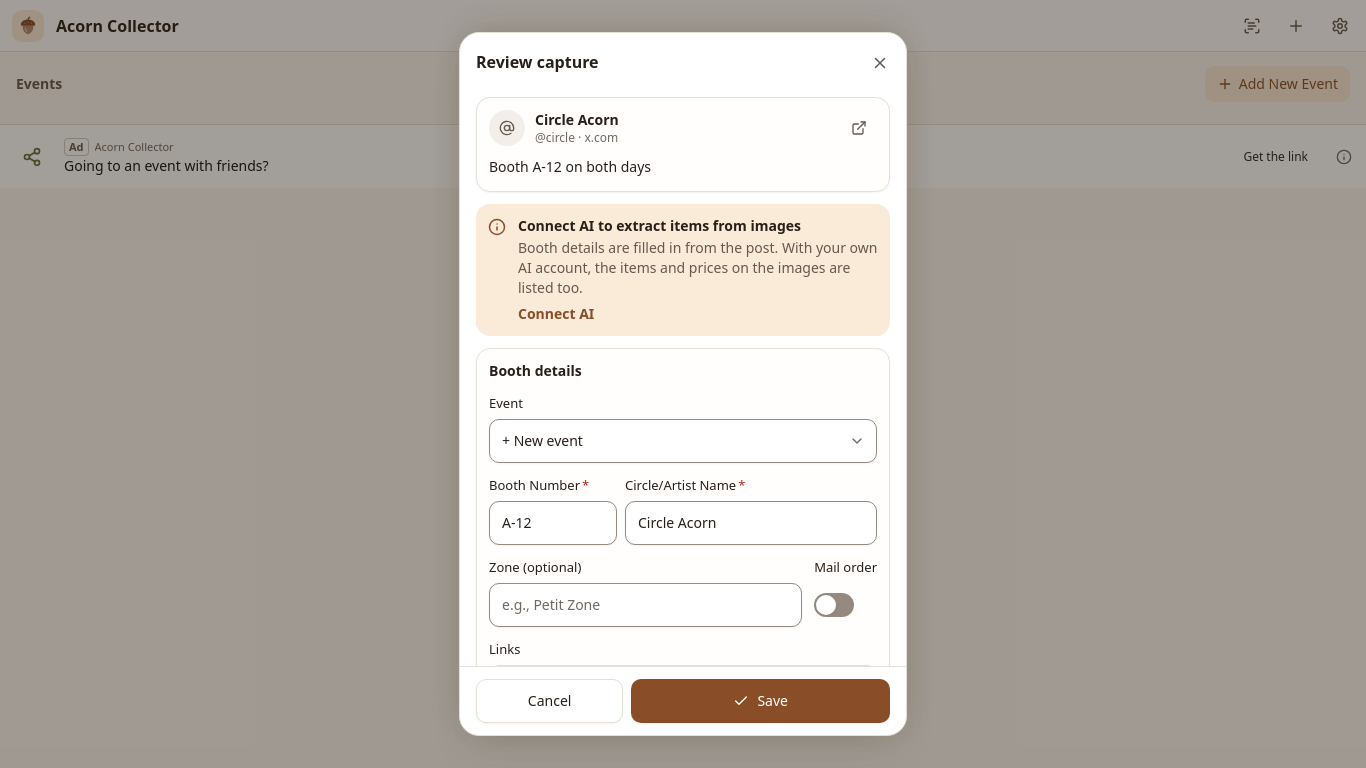
Test: side panel capture review › opens the review sheet prefilled from this window's capture and keeps the handoff until dismissed
What coordinates should you click on to do the following:
click the button named "Close"
I would click on:
 (880, 63)
Its box is top-left (862, 45), bottom-right (898, 81).
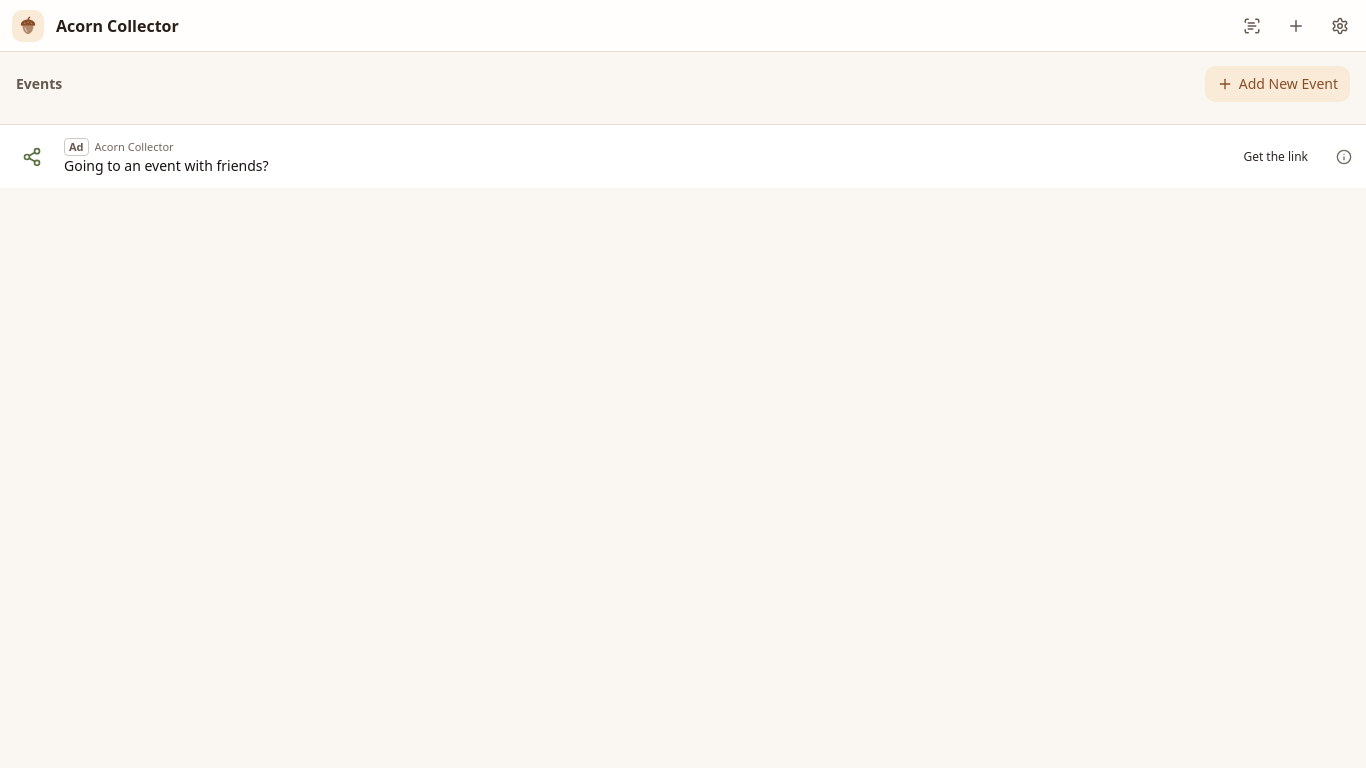
Result: the dialog is gone
